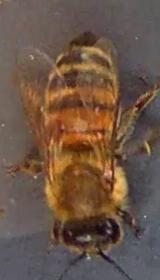varroa_mite: (44, 116, 70, 138)
